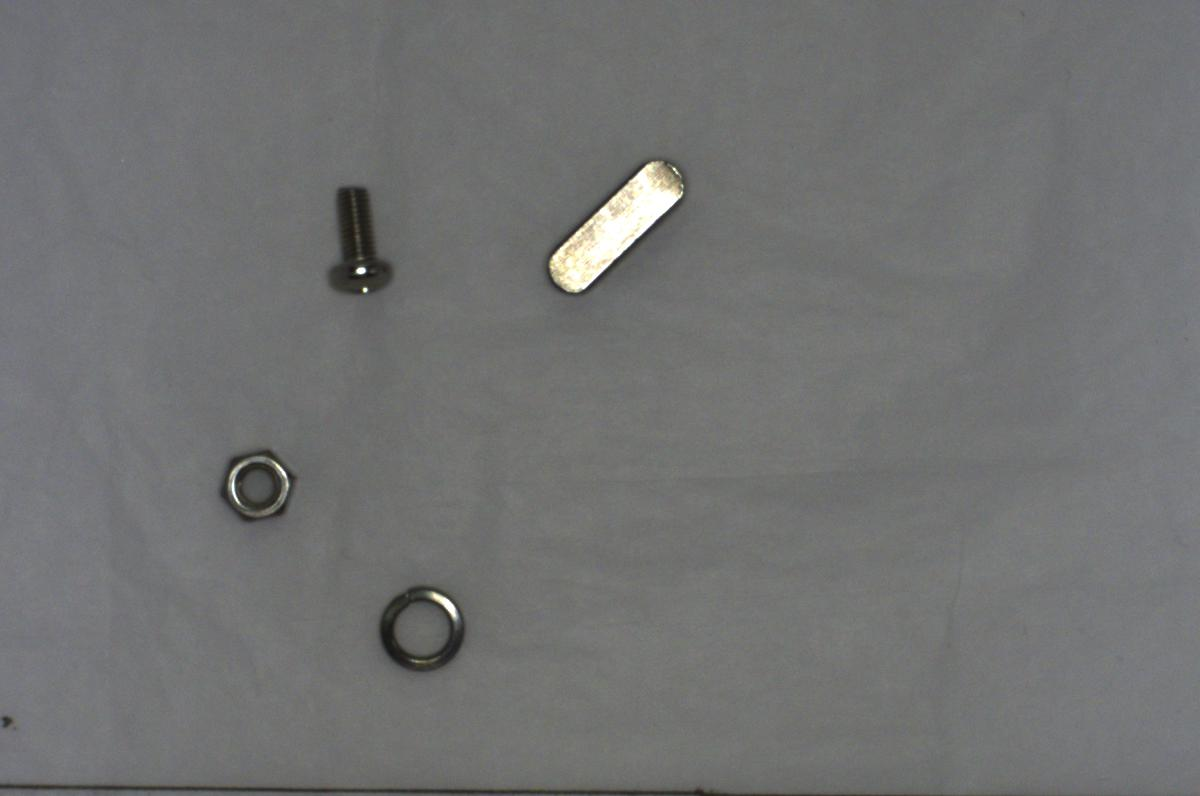Hexagon nut: (215, 442, 301, 520)
Keybar: (534, 148, 688, 294)
Round head screw: (319, 172, 398, 302)
Spring washer: (366, 574, 470, 680)
